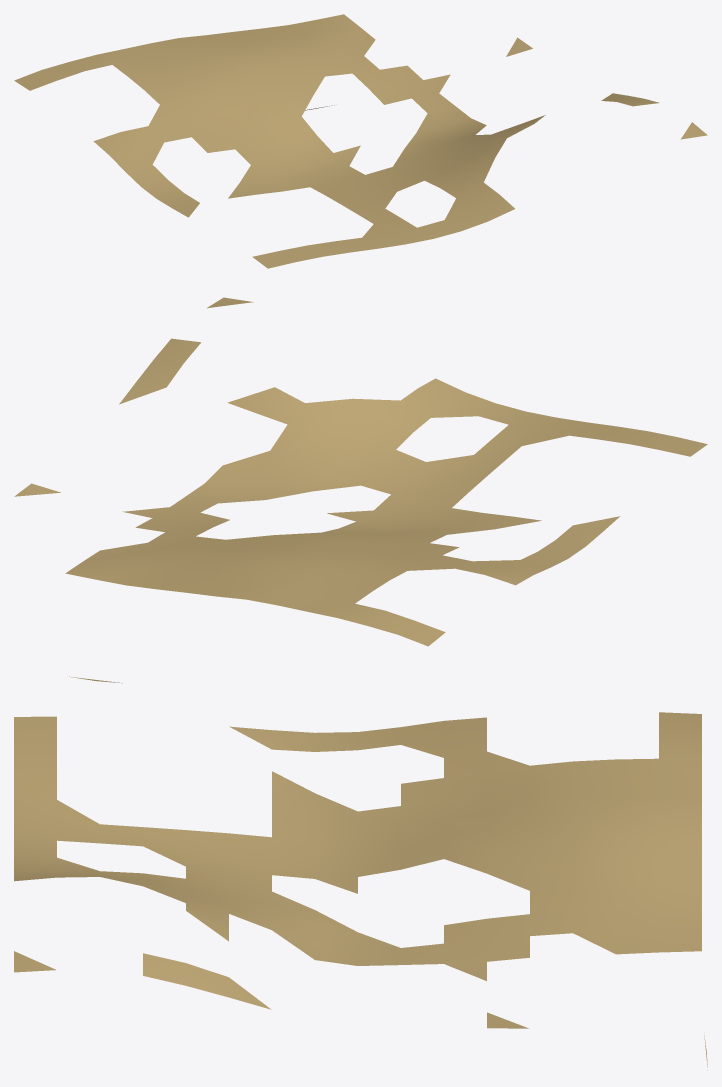
Rendered from navmesh2.glb.
3 renders of one model, top to bottom at view 1: azimuth 30°, elevation 25°; view 2: azimuth 150°, elevation 25°; view 3: azimuth 270°, elevation 25°, orthographic. The views are drawn at different scales.
Parts seen in each view (by area): view 1: Cube_1.001; view 2: Cube_1.001; view 3: Cube_1.001.
Boxes of the visible parts, bbox=[...] form: Cube_1.001: bbox=[14, 14, 707, 268]; Cube_1.001: bbox=[14, 297, 707, 683]; Cube_1.001: bbox=[14, 712, 707, 1070].
Size of the model in its own units: 39.32 by 11.23 by 39.66.
